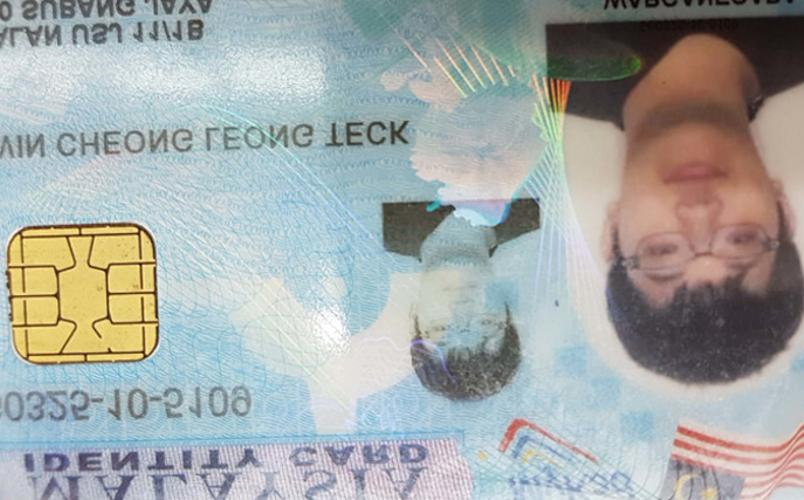hologramB: (409, 5, 544, 199)
